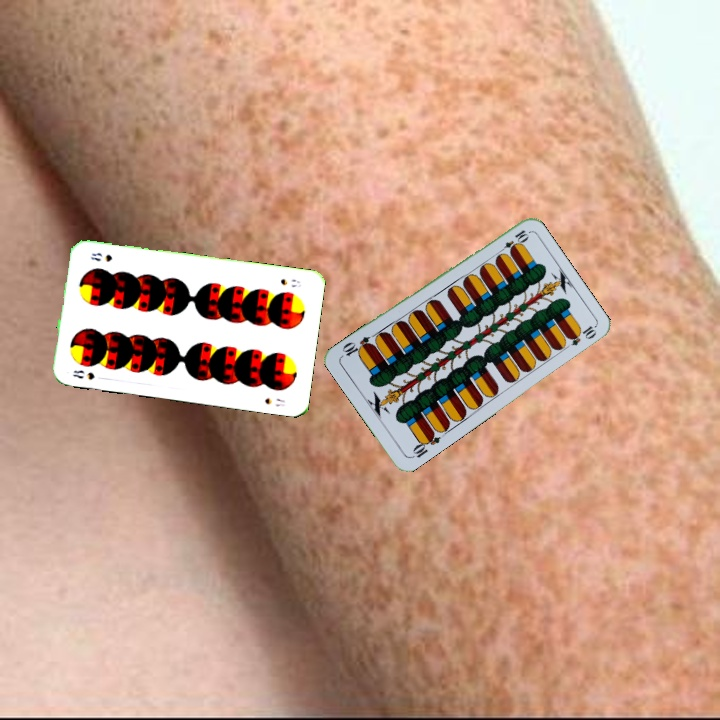E10: (407, 428, 443, 461), (494, 226, 531, 257)
S8: (69, 366, 97, 382), (276, 275, 304, 290)
